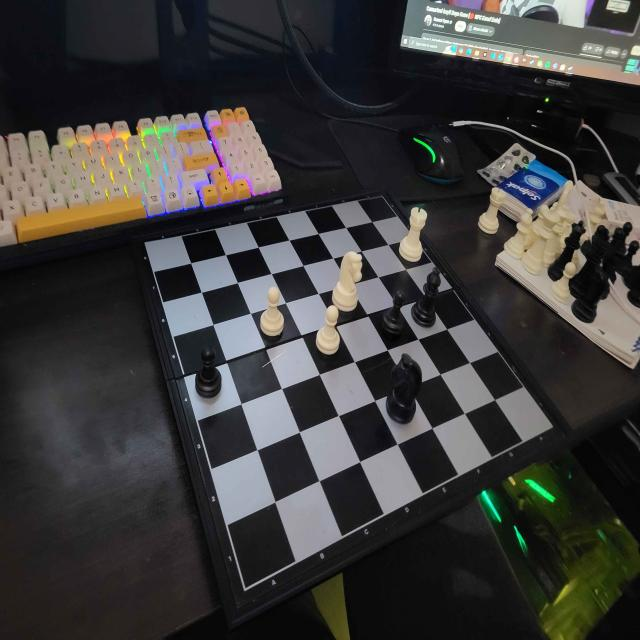black-bishop: (410, 266, 442, 331)
black-knight: (385, 349, 422, 428)
black-pawn: (194, 344, 225, 398), (382, 286, 408, 339)
chess-board: (142, 188, 562, 602)
white-knight: (331, 248, 365, 311)
white-pawn: (314, 303, 342, 363), (259, 284, 287, 342)
white-rook: (396, 204, 430, 264), (477, 188, 508, 235)
